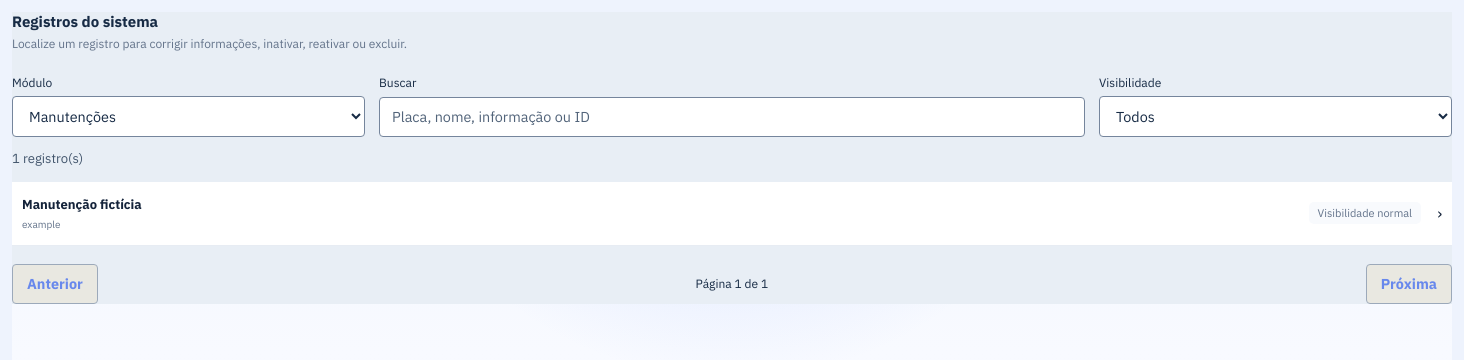
descarta uma resposta de detalhe que chegou depois da troca de módulo
Click the button "Manutenção fictícia example Visibilidade normal ›" at (82, 204), box [12,182,1452,246]
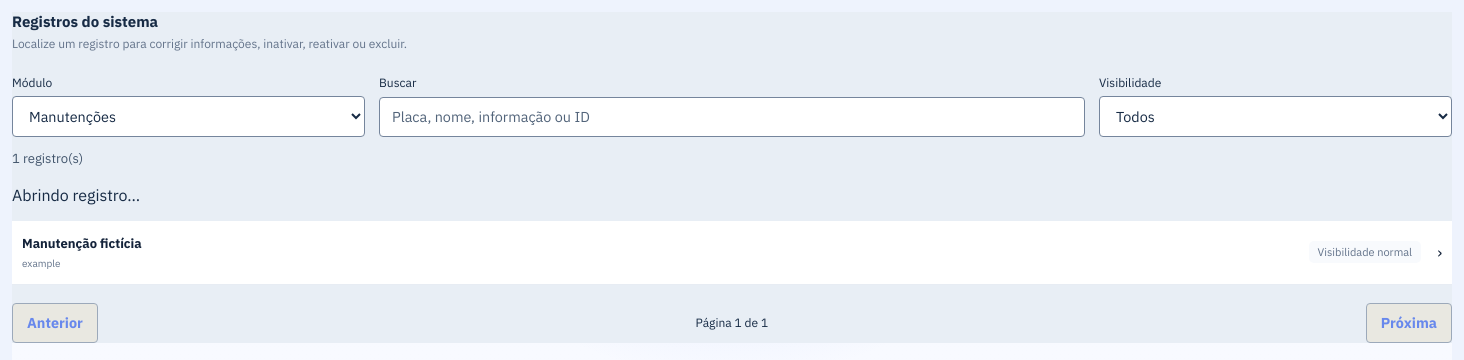
Select "Veículos" in the dropdown labelled "Módulo" at (188, 116), box [12,96,365,137]
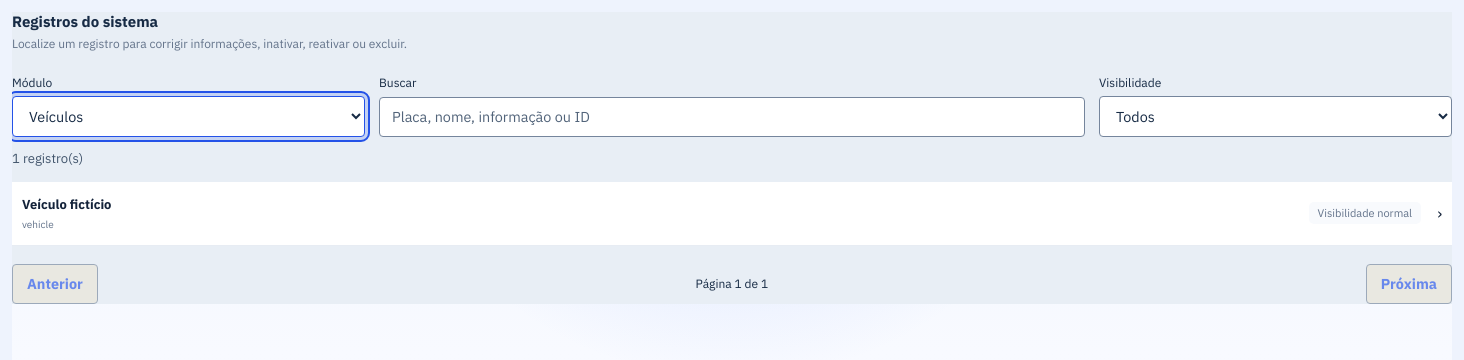
Result: the button "Veículo fictício vehicle Visibilidade normal ›" is shown at [12,182,1452,246]
